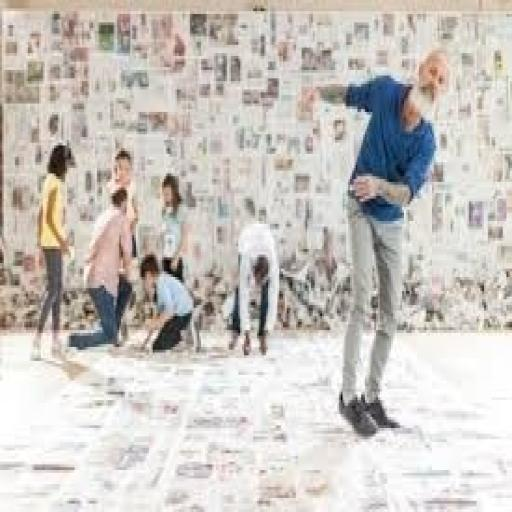dancing: (304, 42, 454, 439)
